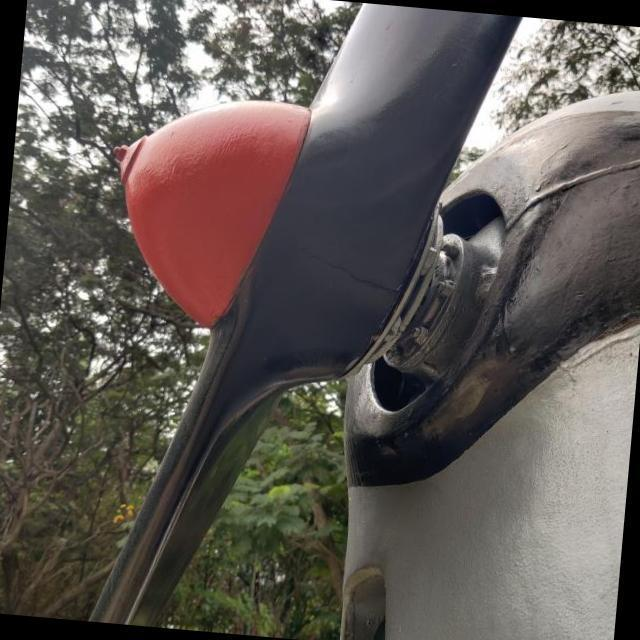Rupture: (277, 236, 410, 306)
